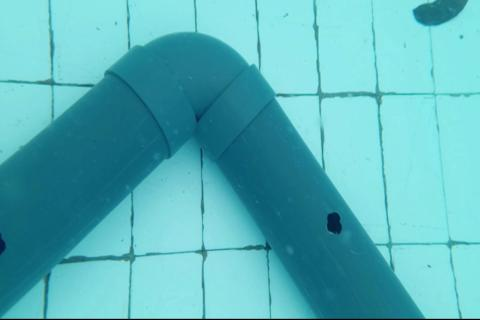kebocoran: (325, 211, 343, 236), (0, 230, 7, 255)
